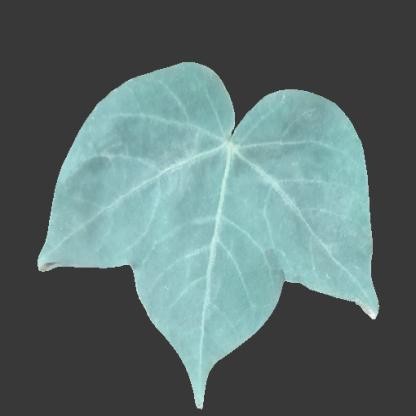healthy: (100, 116, 338, 266), (146, 271, 255, 333), (62, 163, 96, 263), (131, 81, 215, 118), (336, 205, 364, 294)
